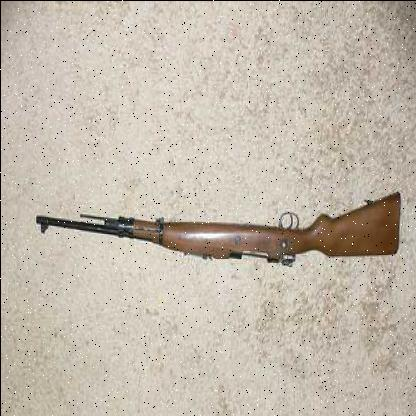rifle: (23, 139, 403, 310)
